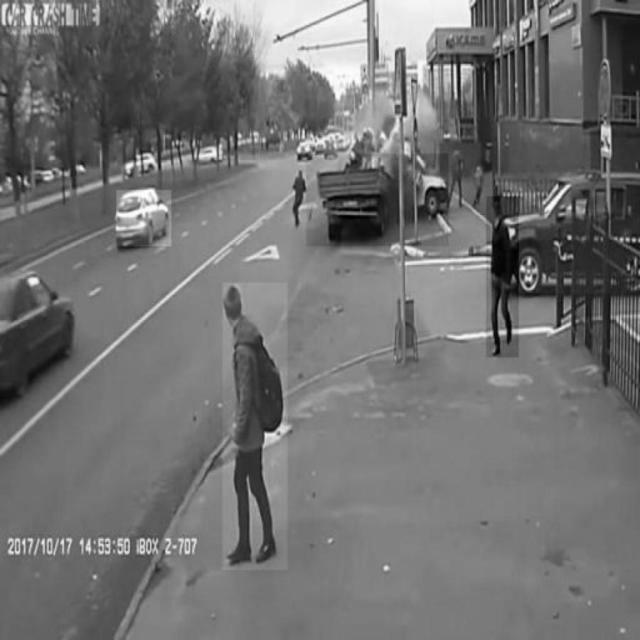accident: (307, 154, 449, 246)
person: (223, 282, 287, 570), (487, 196, 519, 356)
vehicle: (504, 173, 640, 294), (117, 191, 172, 247)
